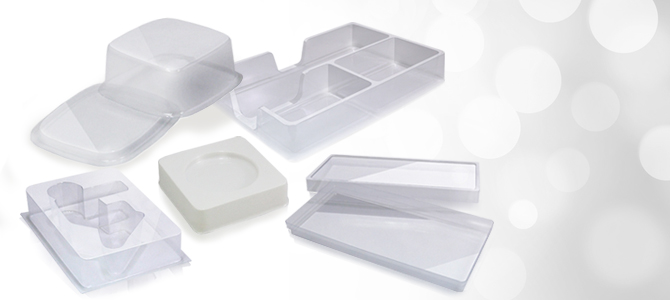PlasticBox: (283, 150, 498, 294)
